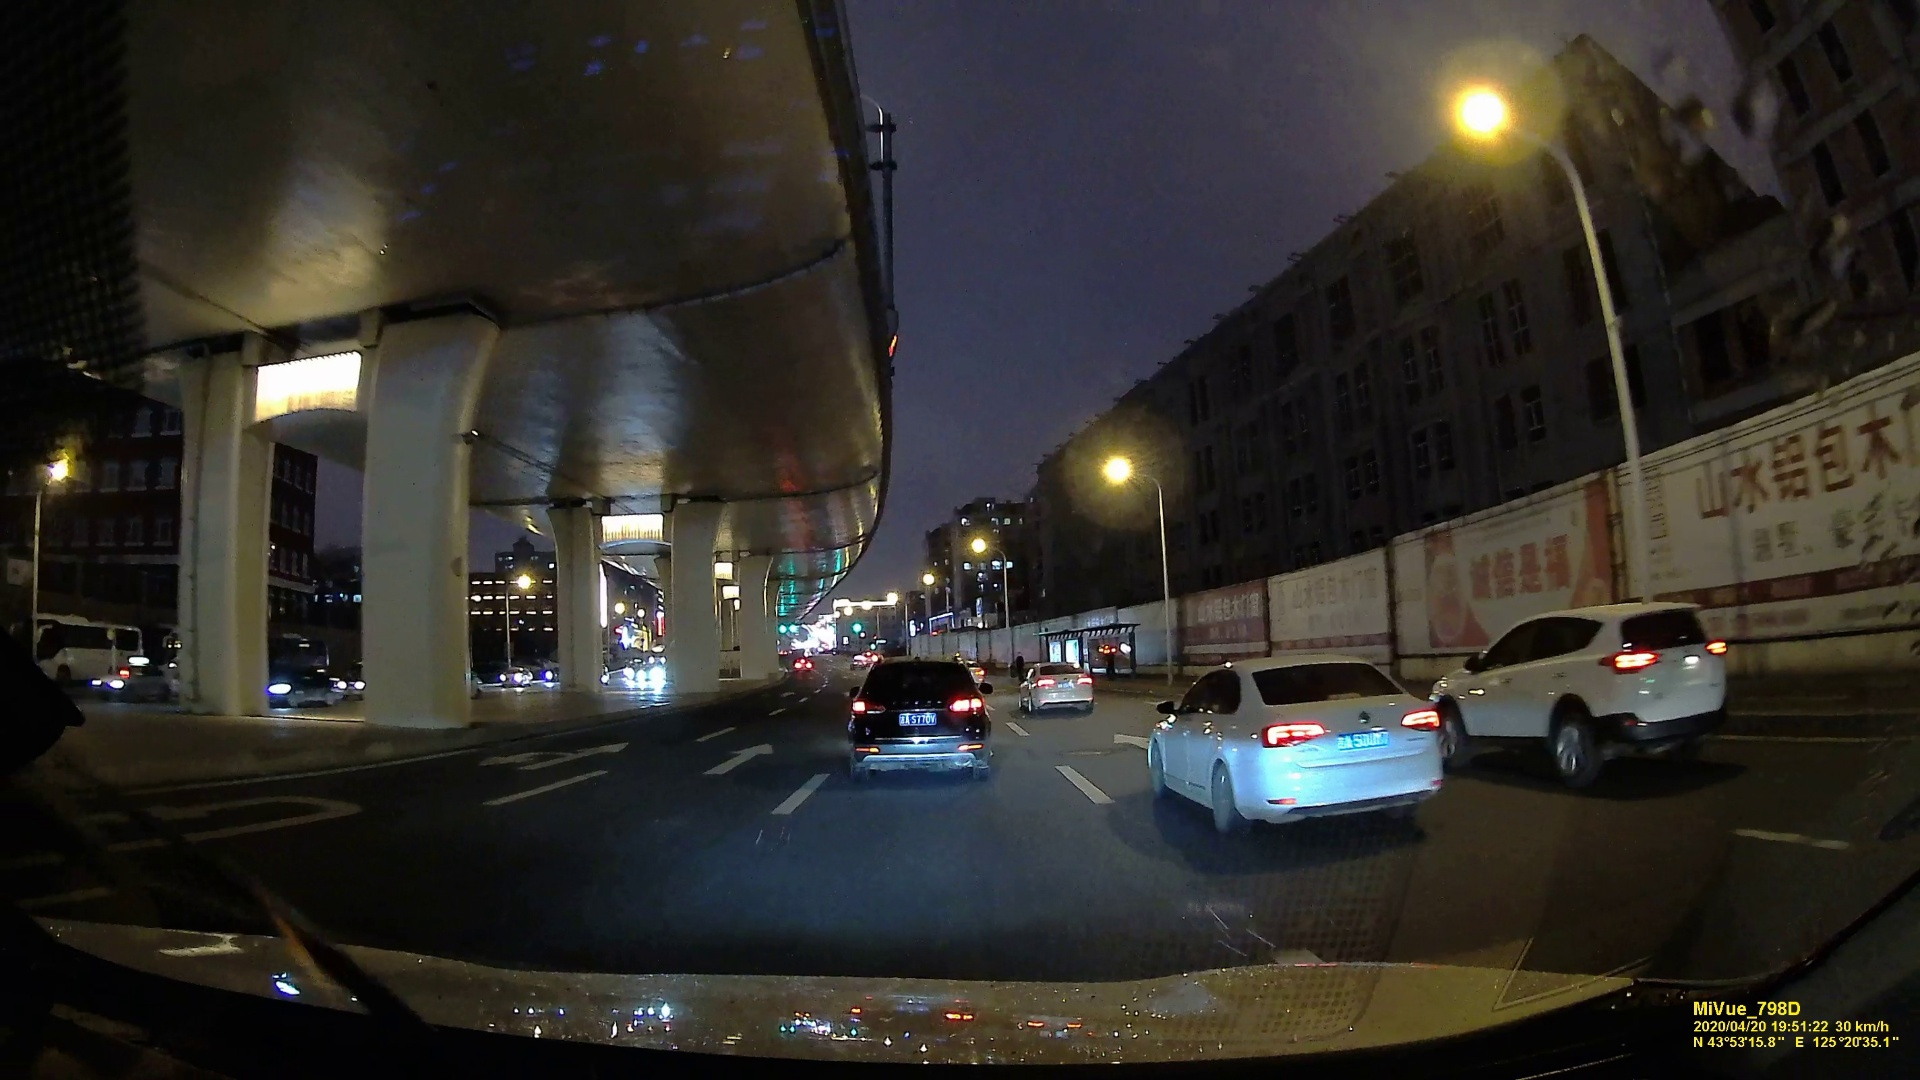vehicle: (1147, 651, 1452, 840), (1432, 611, 1722, 786), (845, 653, 996, 789), (1018, 661, 1096, 716), (793, 655, 812, 670)
